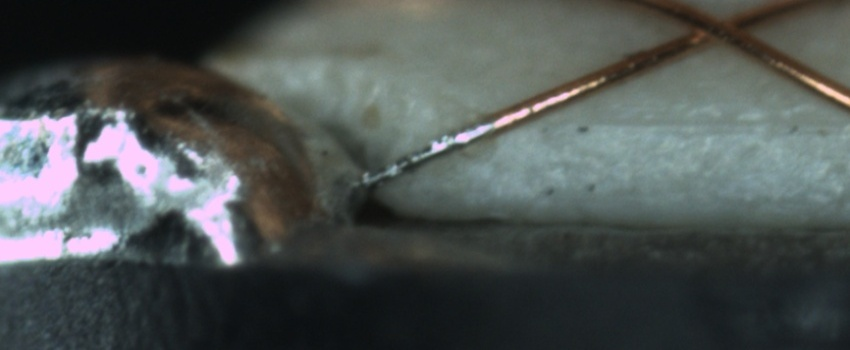CL: (667, 2, 762, 54)
DL: (534, 92, 848, 156)
TS: (359, 118, 495, 188)
